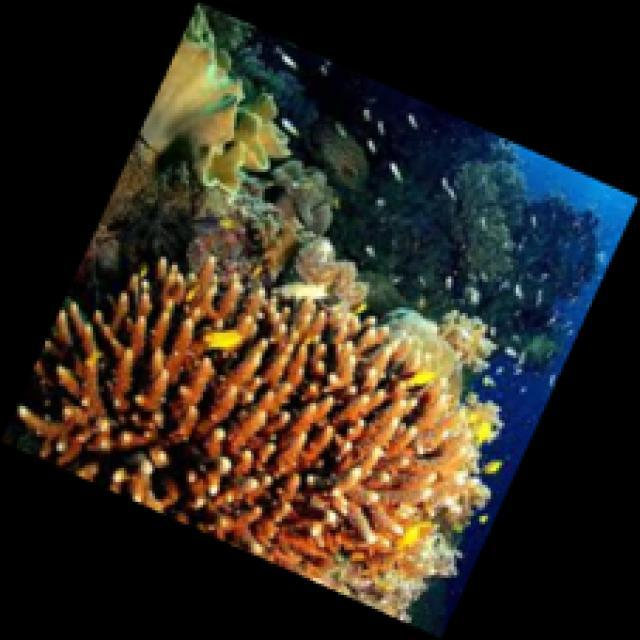Dead Coral: (398, 152, 604, 326)
